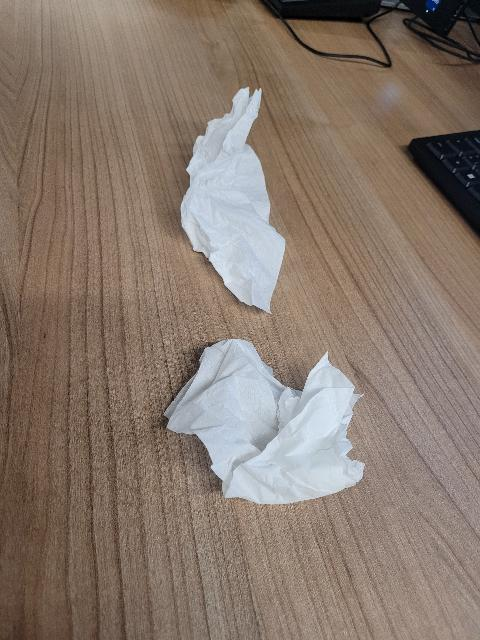Kagit: (165, 337, 366, 509), (179, 87, 287, 318)
